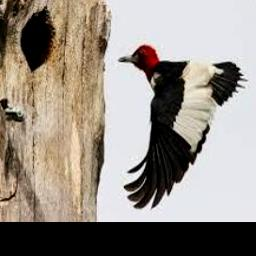Woodpecker: (119, 45, 249, 209)
